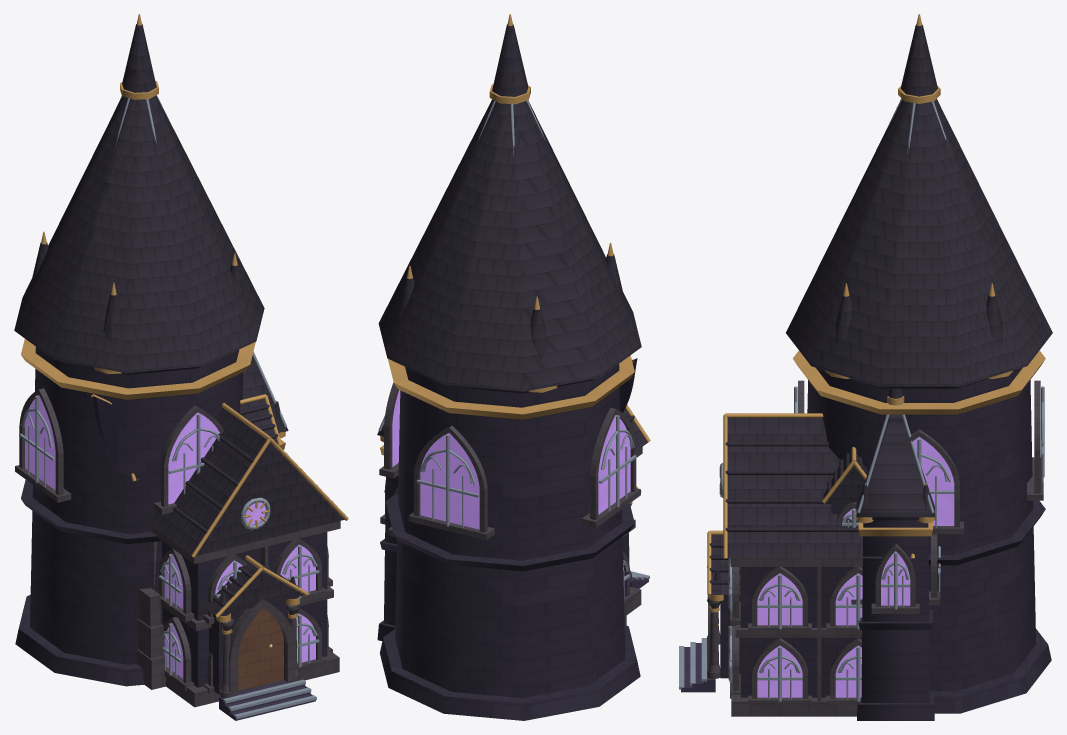
Rendered from violetspire-tower.glb.
3 renders of one model, left to right at view 1: azimuth 30°, elevation 25°; view 2: azimuth 150°, elevation 25°; view 3: azimuth 270°, elevation 25°, orthographic. The views are drawn at different scales.
Size of the model in its own units: 5.18 by 13.32 by 6.99.
10 materials, 10 textured.
